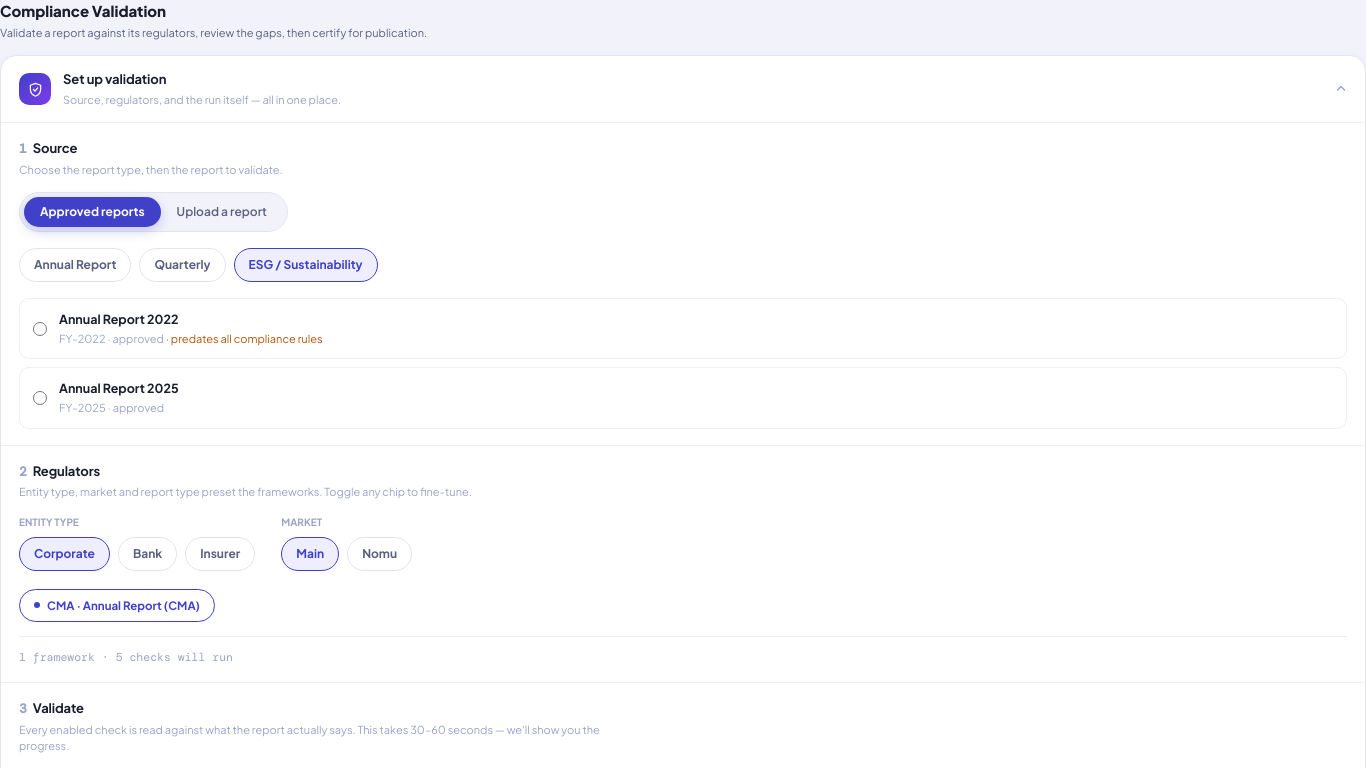
Test: pre-2024 reports get consent, not validation › pops on an old reporting period alone, with no file chosen
The width and height of the screenshot is (1366, 768).
Expected: the text "Annual Report 2022" is shown, [59,311,178,327]
Step 1. Click the radio button labelled "Annual Report 2025 FY-2025 · approved" → (40, 398), box [33,391,47,405]
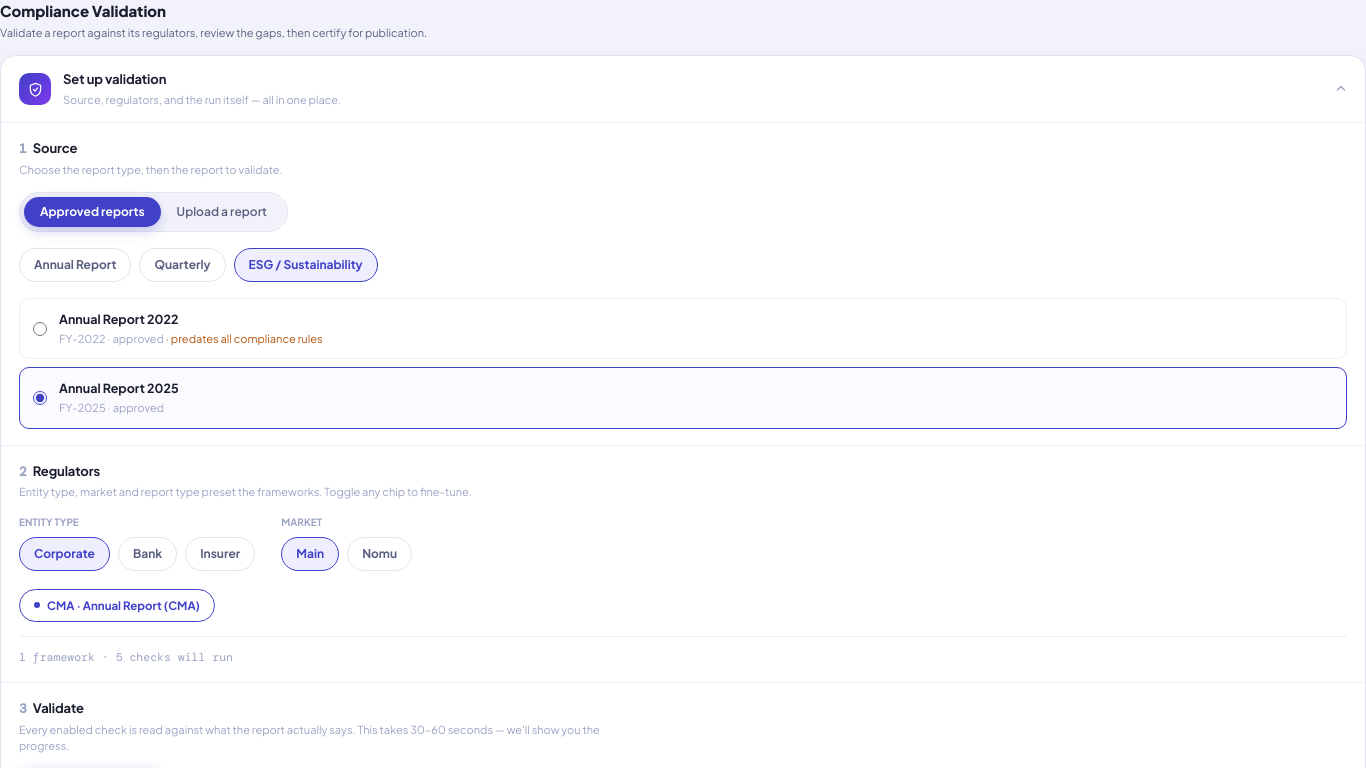
Step 2. Click the button "Upload a report" → (222, 212), box [161,197,283,227]
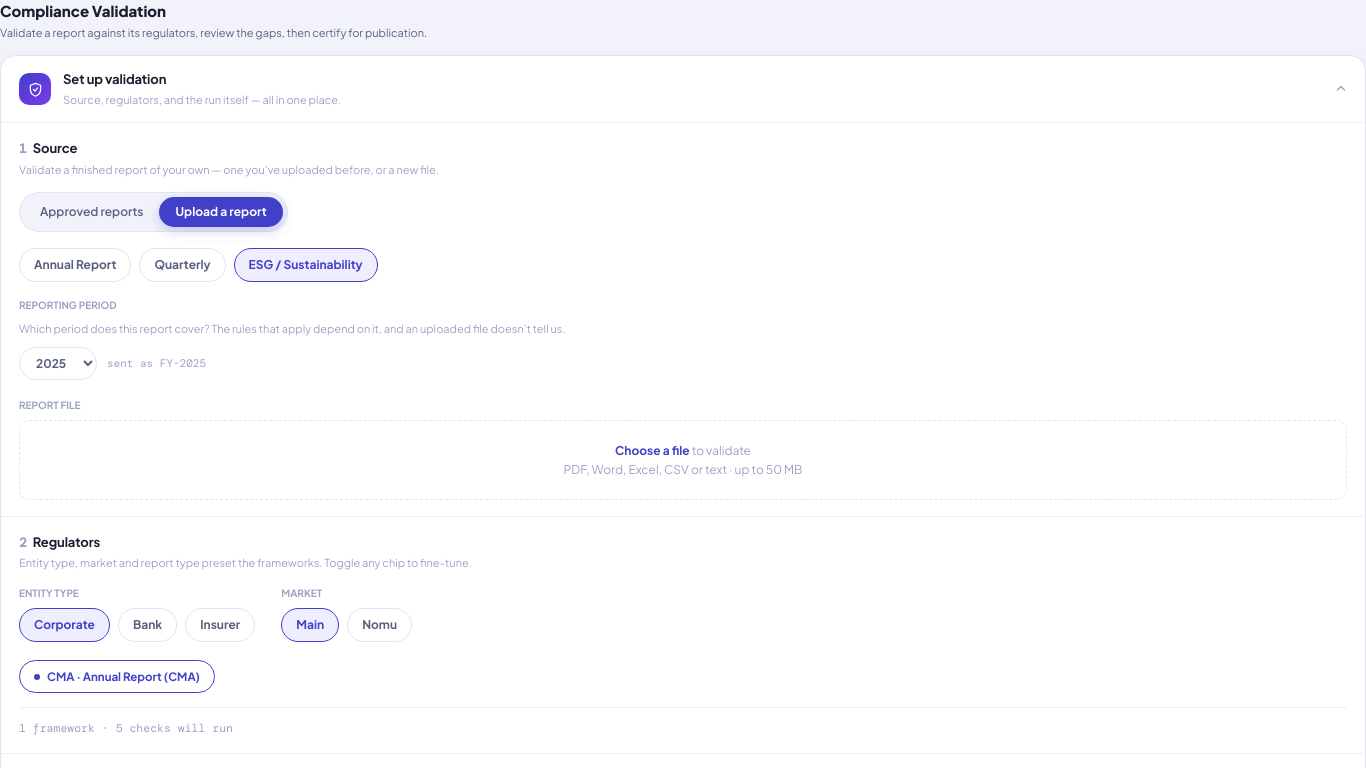
Step 3. Select "2018" in the dropdown → (58, 363), box [19,347,97,380]
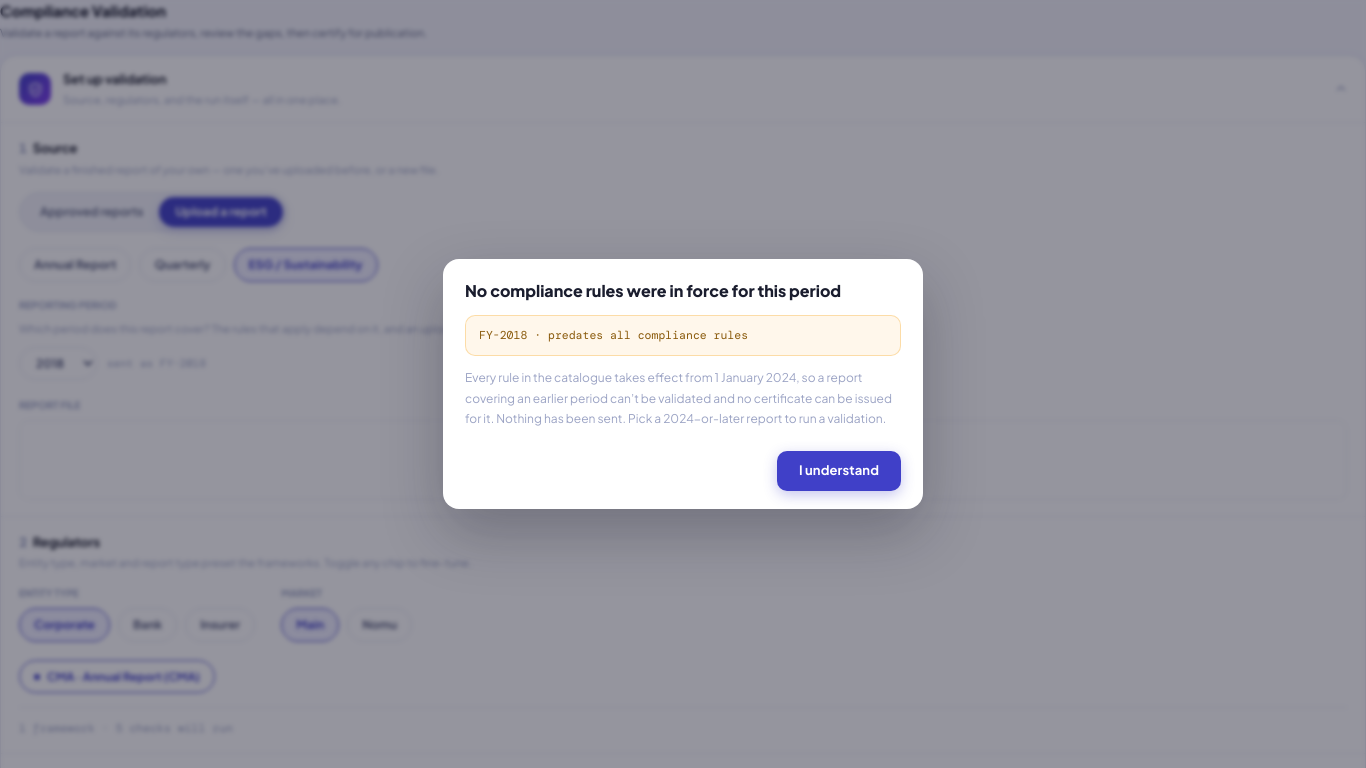
Result: the dialog is shown
